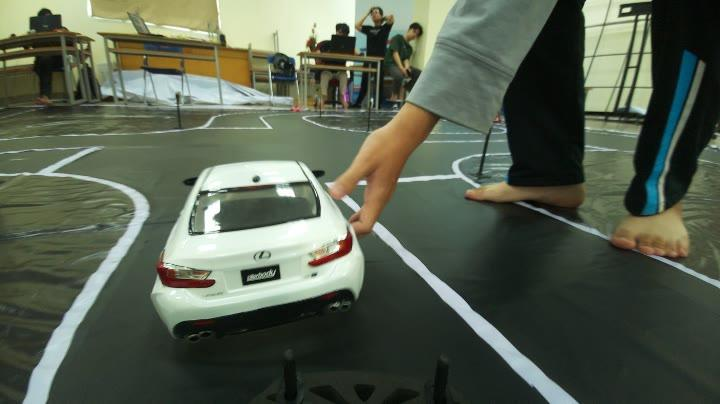car: (164, 154, 358, 340)
